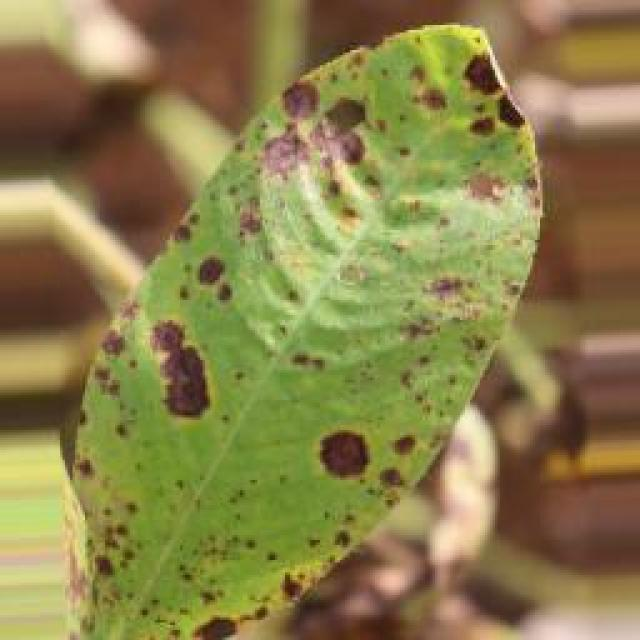Yellowish: (0, 12, 535, 640)
